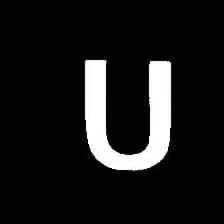LTR_U: (77, 48, 175, 176)
